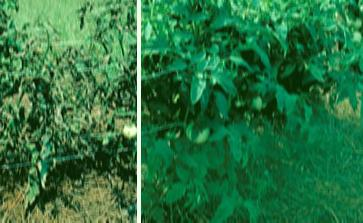Tomato leaf bacterial spot: (185, 74, 208, 110), (222, 132, 246, 166), (251, 36, 272, 73), (211, 9, 234, 35), (275, 90, 295, 117)
